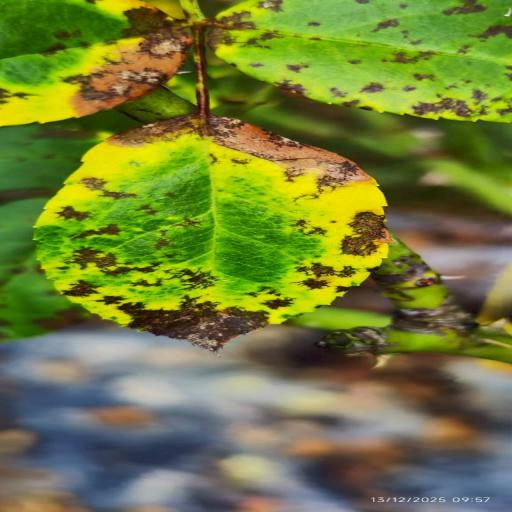black_spot: (36, 115, 387, 350), (210, 0, 511, 122), (0, 0, 191, 126)
